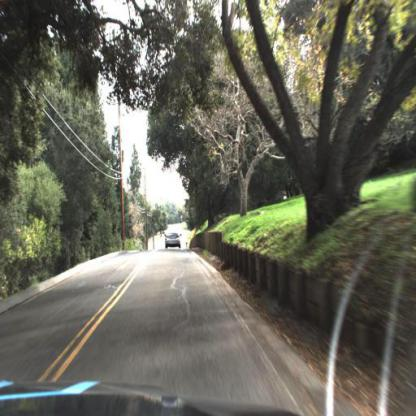car: (164, 225, 185, 255)
